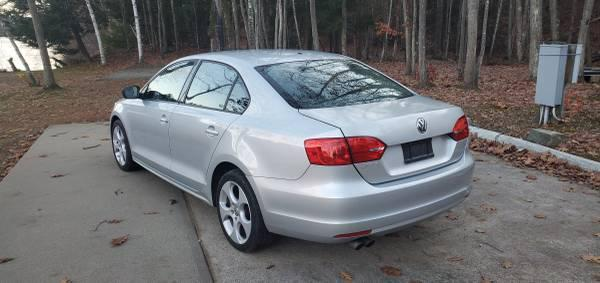Front_Left_Door: (216, 109, 343, 178), (127, 99, 177, 182)
Front_Left_Window: (139, 59, 202, 102)
Left_Taillight: (301, 136, 384, 167)
Rear_Bumper: (245, 148, 473, 241)
Rear_Left_Door: (169, 105, 241, 205)
Rear_Left_Window: (179, 60, 250, 116)
Rear_Windshield: (256, 59, 416, 109)
Right_Taillight: (450, 113, 471, 142)
Roof: (169, 50, 351, 111)
Tailgate: (297, 95, 466, 184)
Wheel: (214, 172, 263, 253), (109, 122, 131, 173)
